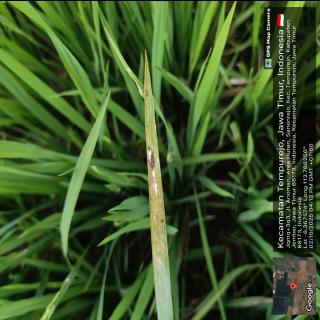Blast: (148, 144, 159, 203)
